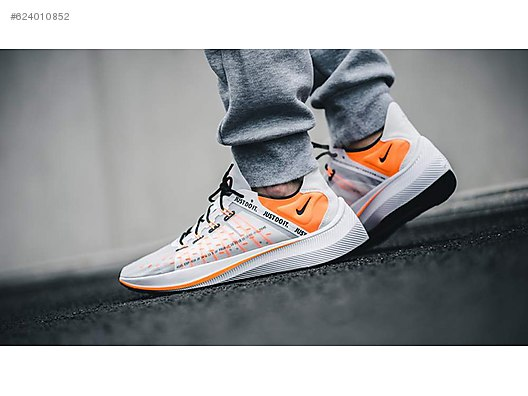nike: (377, 141, 395, 165), (294, 194, 312, 215)
